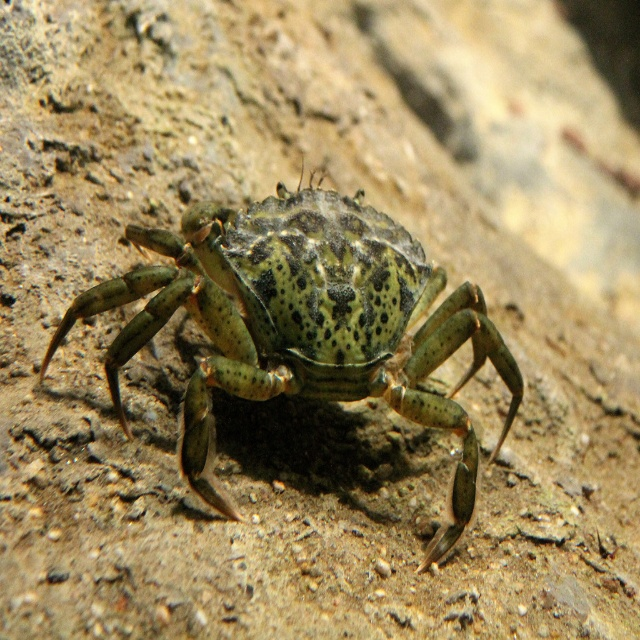Crab: (37, 154, 530, 576)
